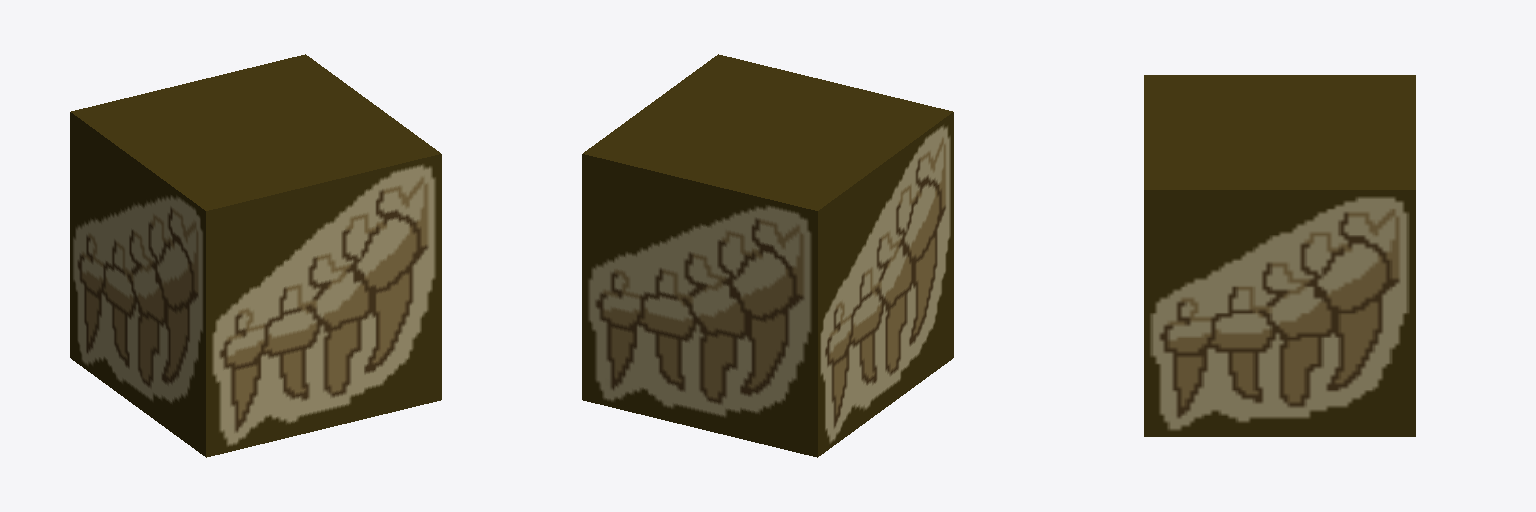
The picture shows the model from 3 angles: view 1: azimuth 30°, elevation 25°; view 2: azimuth 150°, elevation 25°; view 3: azimuth 270°, elevation 25°; orthographic projection.
Visible parts, largest first — view 1: Cube; view 2: Cube; view 3: Cube.
Boxes of the visible parts, x1=… form: Cube: x1=70, y1=54, x2=441, y2=457; Cube: x1=582, y1=54, x2=953, y2=457; Cube: x1=1144, y1=75, x2=1415, y2=436.
Size of the model in its own units: 2 by 2 by 2.
1 materials, 1 textured.